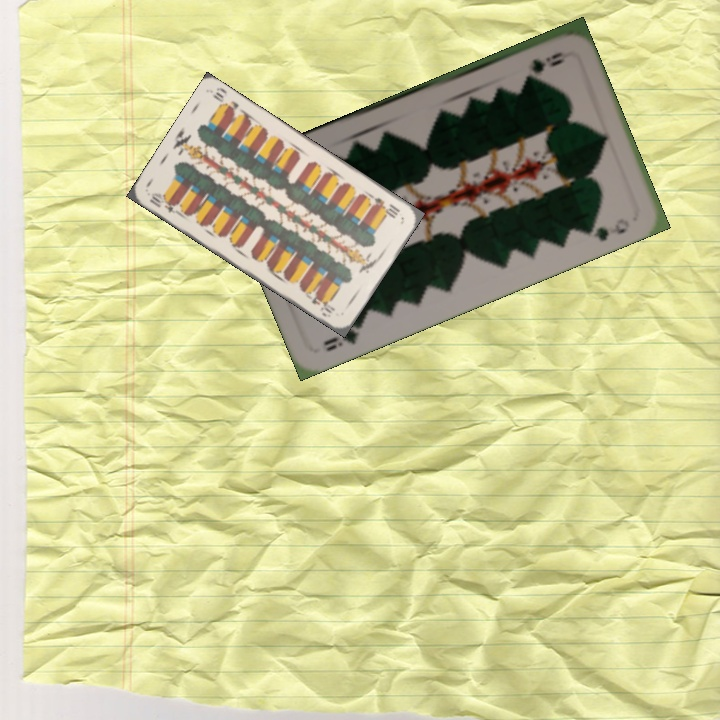E10: (145, 189, 182, 217), (370, 193, 403, 221)
G9: (319, 317, 367, 354), (528, 47, 565, 74)
